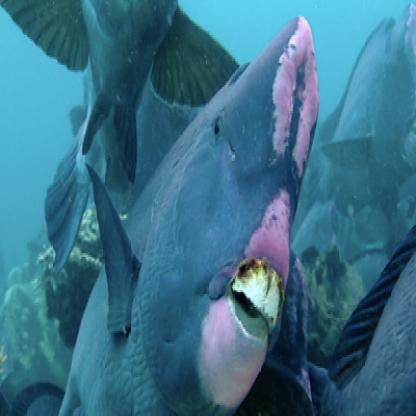parrot: (77, 25, 327, 413)
